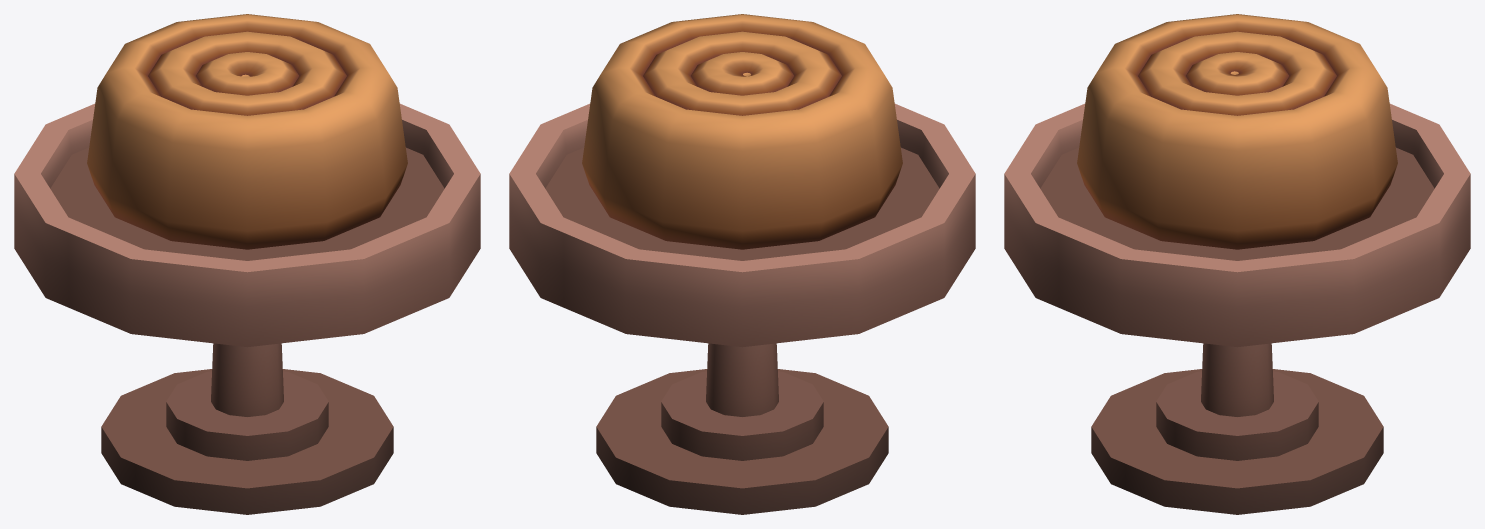
File: Riesenzimtschnecke.fbx
3 renders of one model, left to right at view 1: azimuth 30°, elevation 25°; view 2: azimuth 150°, elevation 25°; view 3: azimuth 270°, elevation 25°, orthographic.
Parts seen in each view (by area): view 1: Cylinder.056, Cylinder.059; view 2: Cylinder.056, Cylinder.059; view 3: Cylinder.056, Cylinder.059.
Part boxes in pixels (<box>): Cylinder.056: <box>14,103,480,514</box>; Cylinder.059: <box>87,14,407,249</box>; Cylinder.056: <box>509,103,975,514</box>; Cylinder.059: <box>582,14,902,249</box>; Cylinder.056: <box>1004,103,1470,514</box>; Cylinder.059: <box>1077,14,1397,249</box>.
Bounding box in the file's own units: 17.96 × 16.37 × 17.96.
